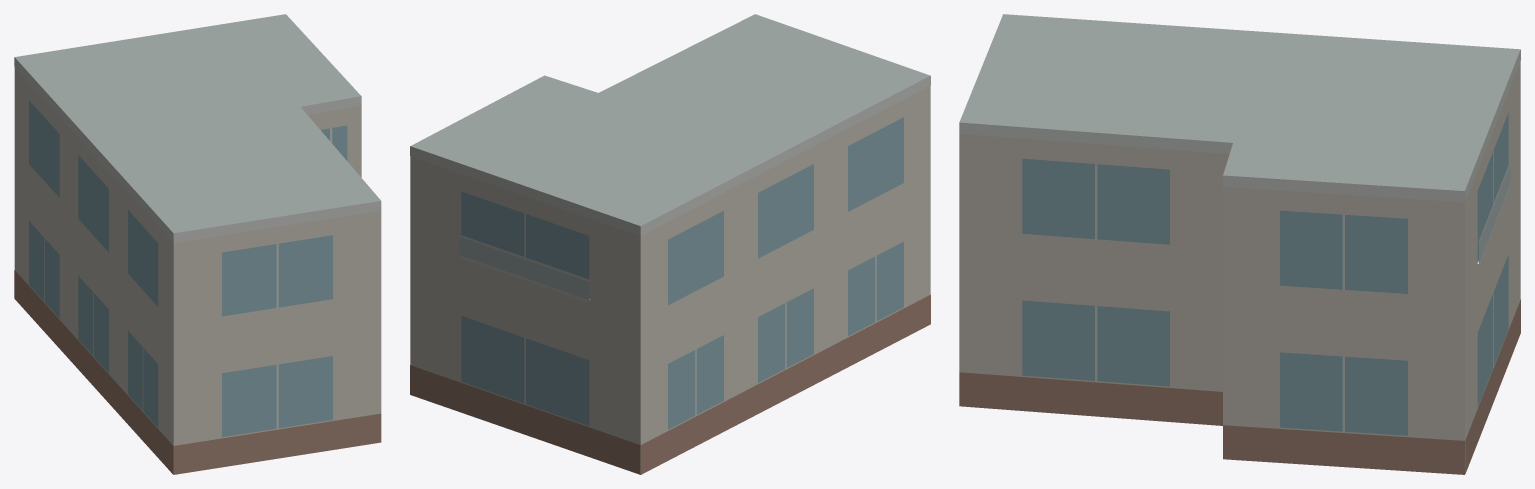
Rendered from survey-upis-32909888.glb.
The picture shows the model from 3 angles, left to right: view 1: azimuth 30°, elevation 25°; view 2: azimuth 150°, elevation 25°; view 3: azimuth 270°, elevation 25°; orthographic projection. The views are drawn at different scales.
Parts seen in each view (by area): view 1: survey-upis-32909888.tmp; view 2: survey-upis-32909888.tmp; view 3: survey-upis-32909888.tmp.
Part boxes in pixels (x1,y1,x2,y2): survey-upis-32909888.tmp: (14, 14, 381, 474); survey-upis-32909888.tmp: (410, 14, 930, 474); survey-upis-32909888.tmp: (959, 14, 1520, 474).
Size of the model in its own units: 8.18 by 6.1 by 10.95.
